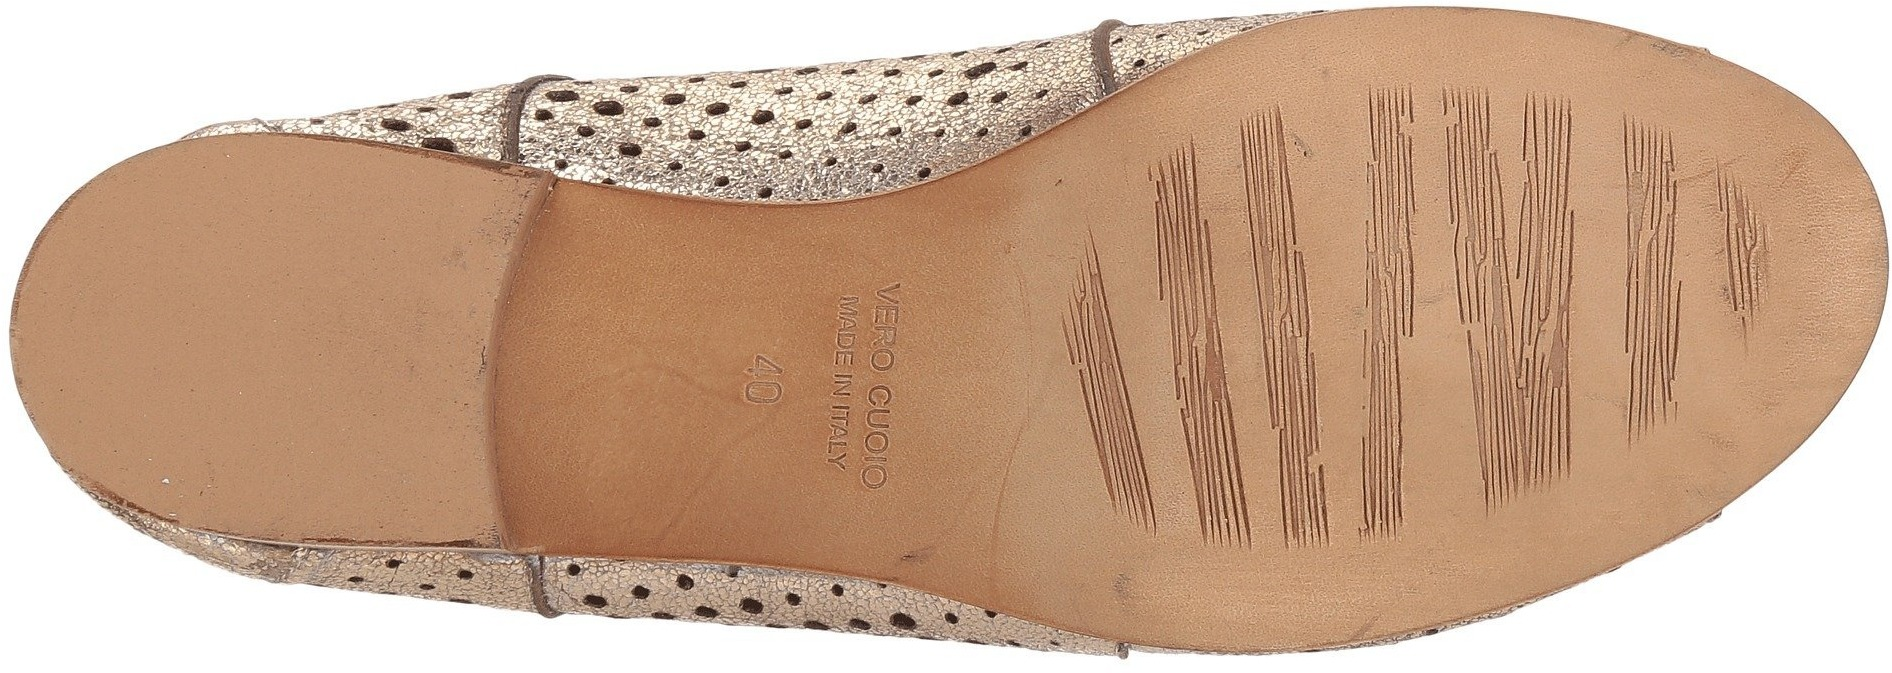line: (1374, 134, 1678, 449), (1126, 177, 1376, 439)
other: (103, 195, 417, 488)
text: (747, 281, 968, 488)
